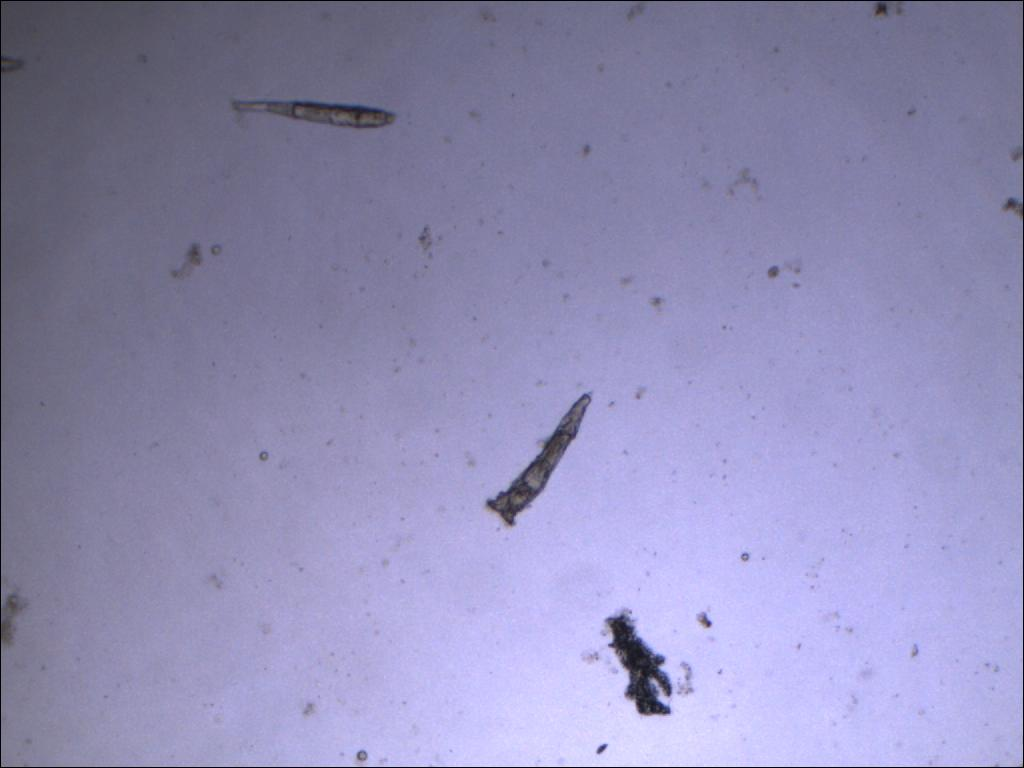amoeba: (599, 609, 678, 721)
